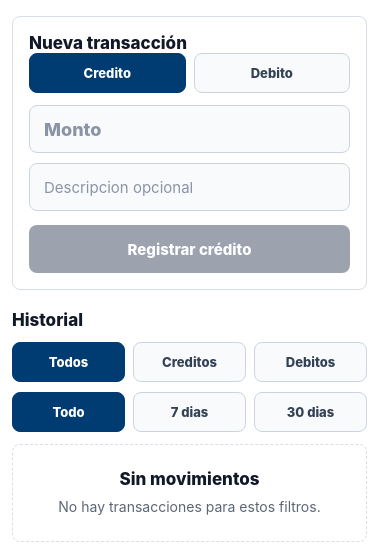
Test: <TransactionsPanel /> › refetches history when the type filter changes
The width and height of the screenshot is (384, 559).
Expected: the text "Sin movimientos" is shown, [120, 469, 260, 489]
Click the button "Creditos": (190,362) [133, 342, 246, 382]
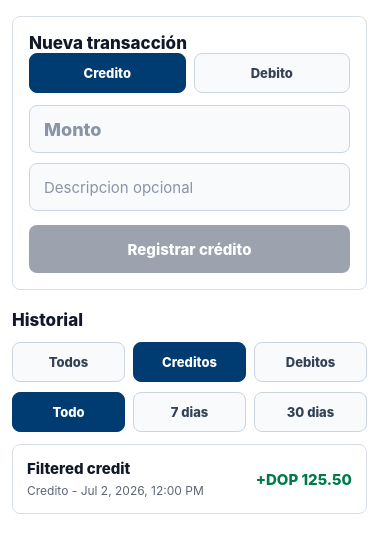
Now the text "Filtered credit" is shown, box [27, 459, 130, 478]
